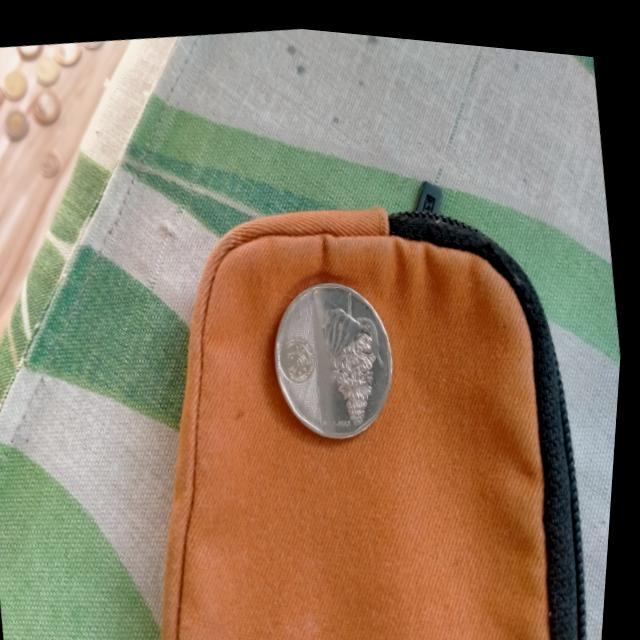10_New_Back: (307, 264, 404, 437)
